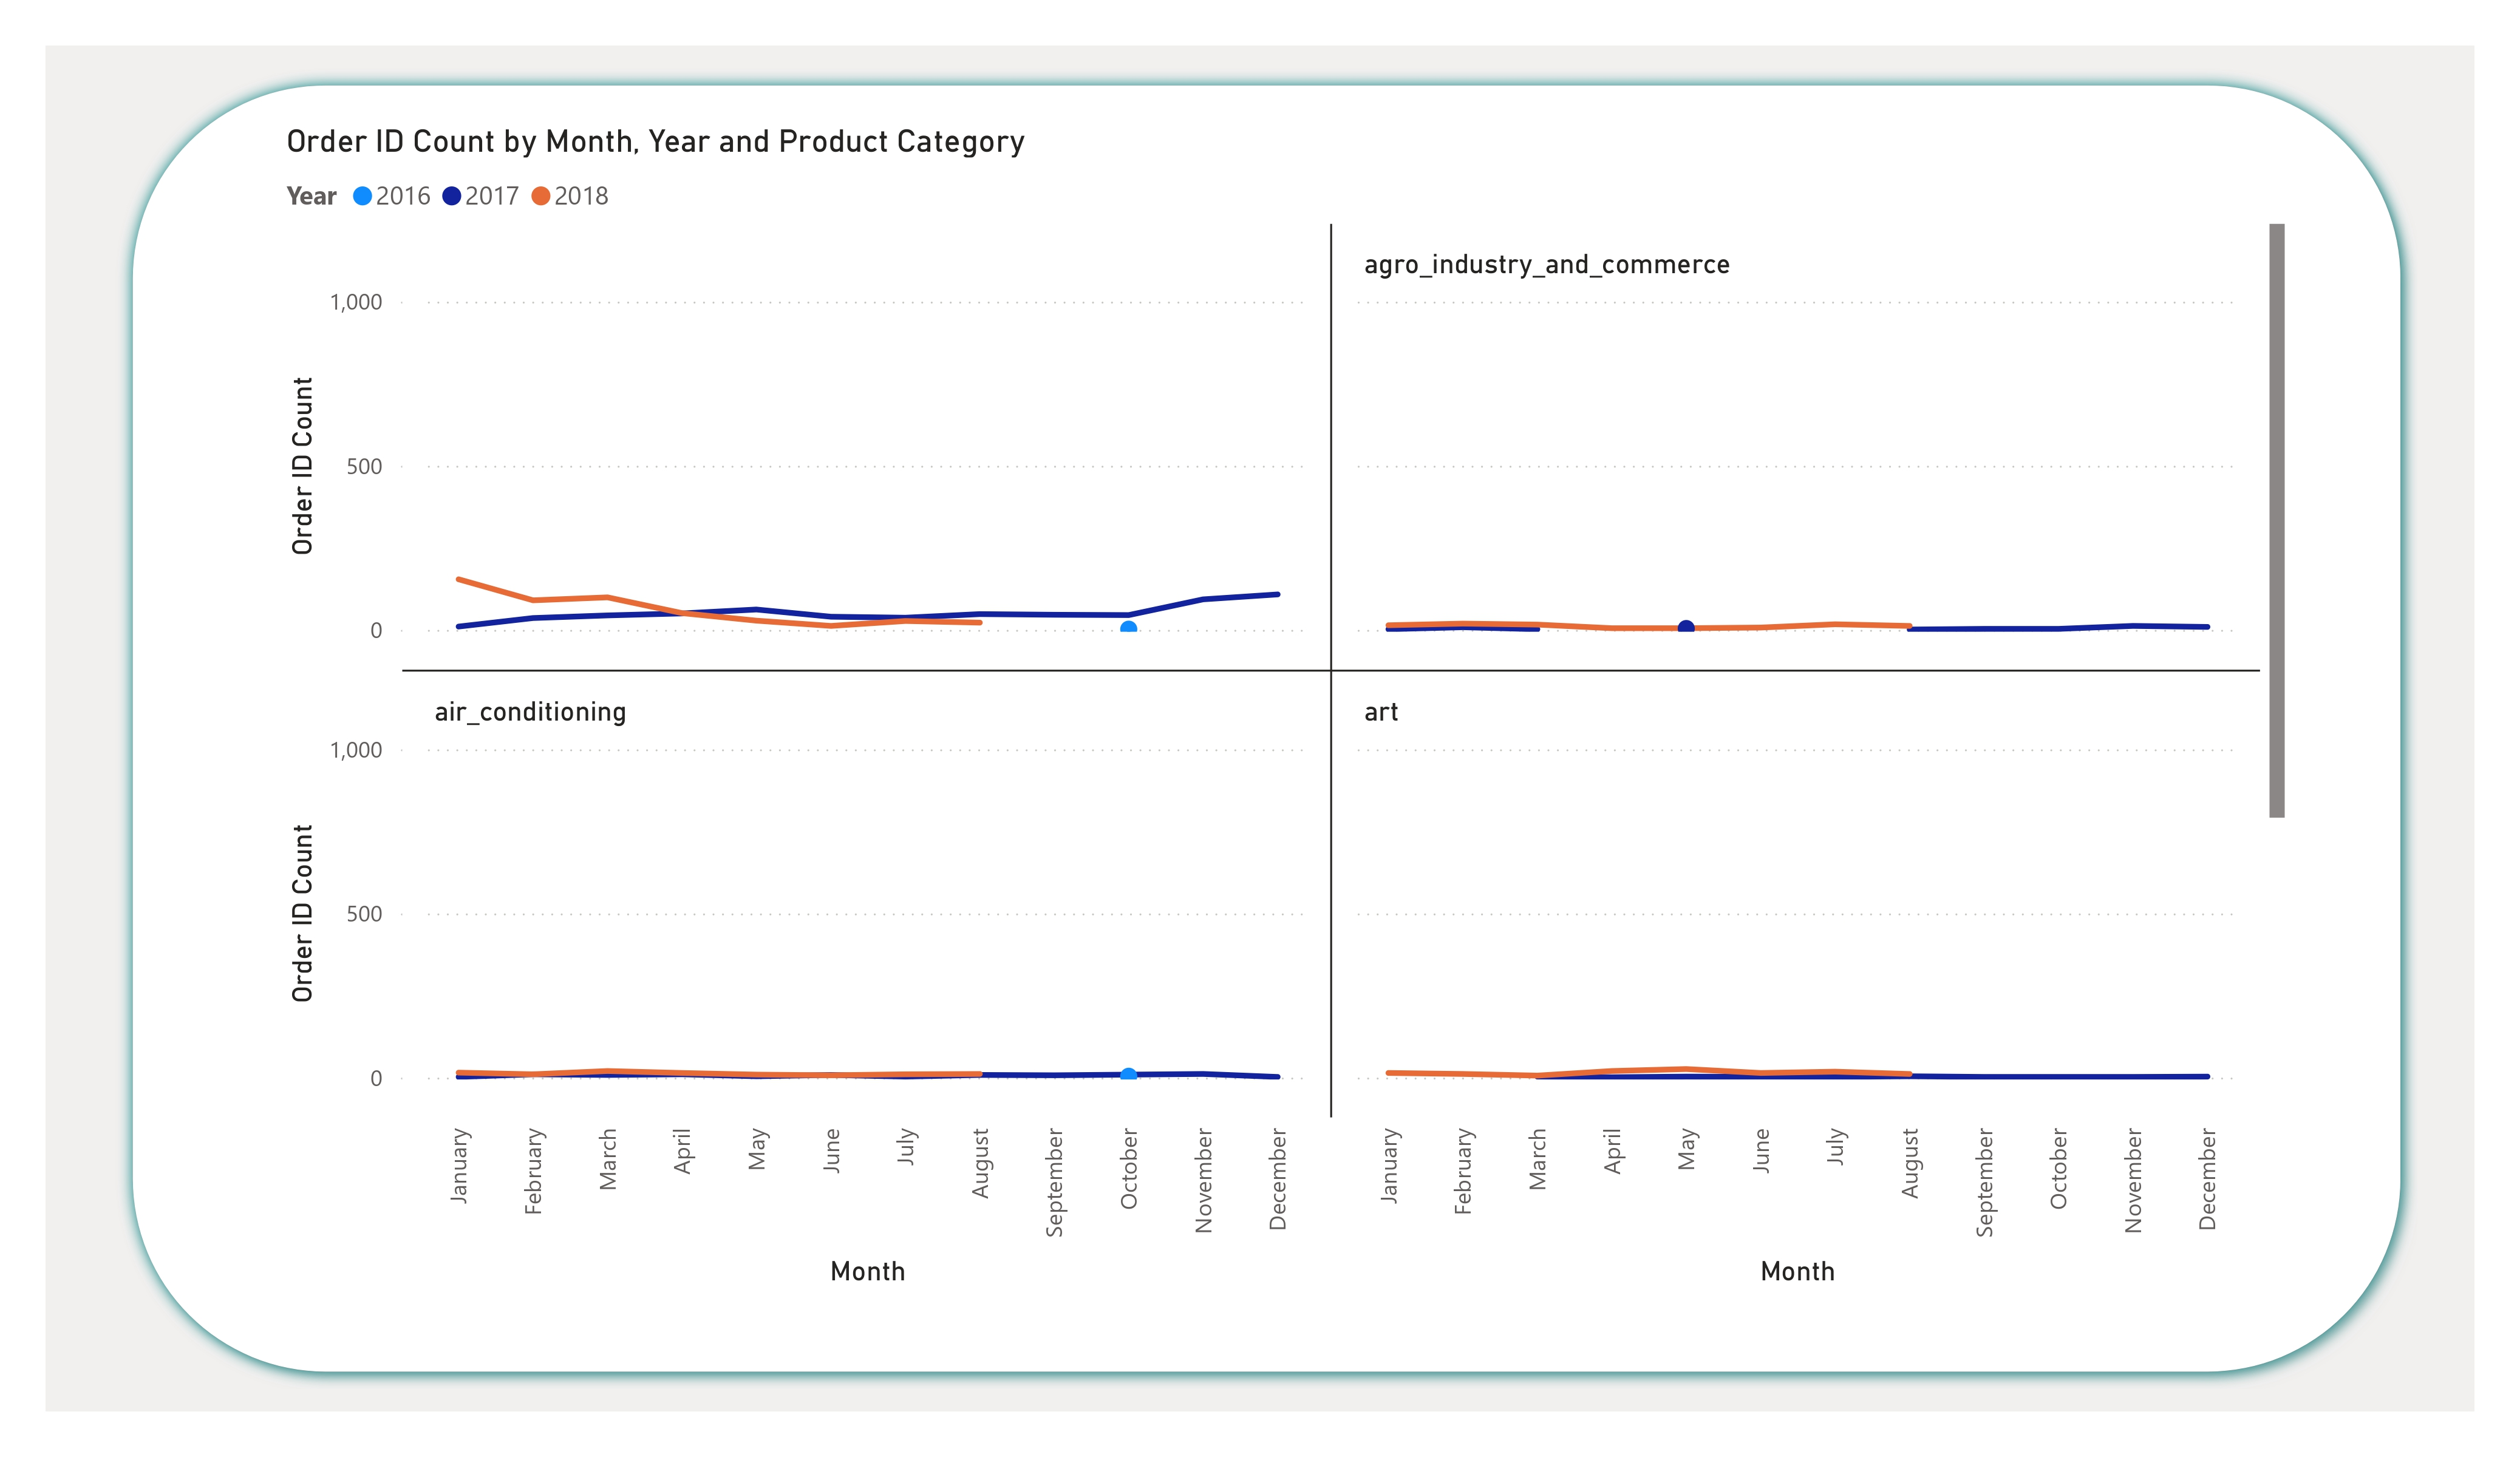

The page's visual inventory and layout, read from the dashboard file:
{"tool":"powerbi","page":{"name":"BR-07","canvas":[1280,720],"ordinal":6},"visuals":[{"type":"shape","box":[37.5,11.8,1212.7,696.4],"z":0,"group":"g1"},{"type":"lineChart","fields":{"Category":["orders.order_purchase_timestamp.Variation.Date Hierarchy.Month"],"Y":["CountNonNull(orders.order_id)"],"Series":["orders.order_purchase_timestamp.Variation.Date Hierarchy.Year"],"Rows":["products.product_category_name"]},"box":[122.1,39.7,1063.8,619.2],"z":1000,"group":"g1"},{"type":"group","id":"g1","title":"Group 1","box":[37.5,11.8,1212.7,696.4],"z":1001}]}

Visuals, with their boxes on the page's 1280x720 design canvas (x1, y1, x2, y2). These are canvas units, not pixel positions in the 2520x1457 screenshot, which may show the page scaled, cropped or inside an application window:
shape: bbox=(38, 12, 1250, 708)
lineChart - orders.order_purchase_timestamp.Variation.Date Hierarchy.Month x CountNonNull(orders.order_id): bbox=(122, 40, 1186, 659)
"Group 1" group: bbox=(38, 12, 1250, 708)
